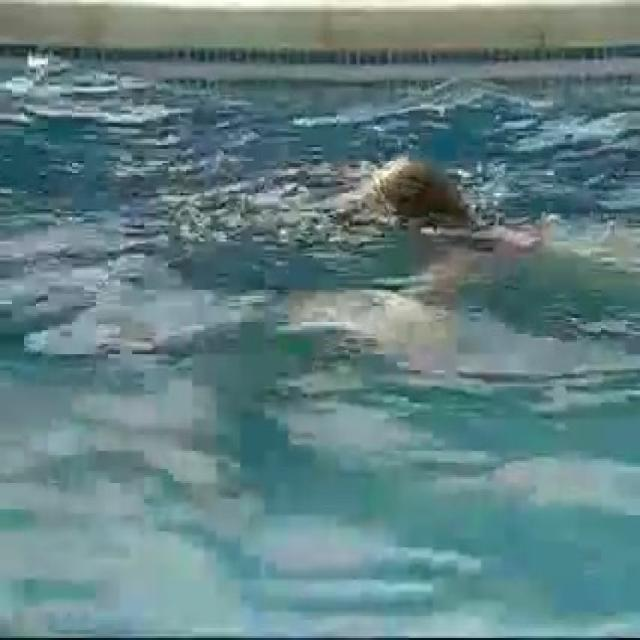Drowning: (220, 149, 541, 295)
